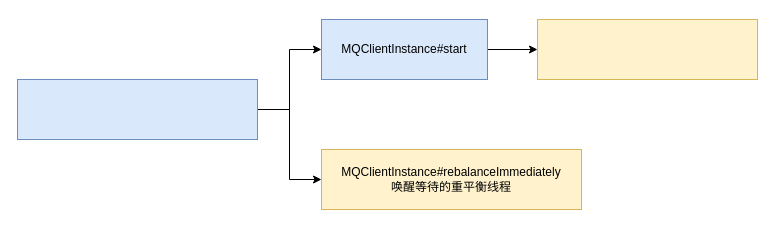
Image size: 775x227. Some labels were removed from this diagram. Here are the shapes that lost their labels. From the top down, the box of each, then its label:
(536, 18, 758, 80): RebalanceService#start 开启重平衡服务
(16, 78, 258, 140): DefaultMQPushConsumerImpl#start
